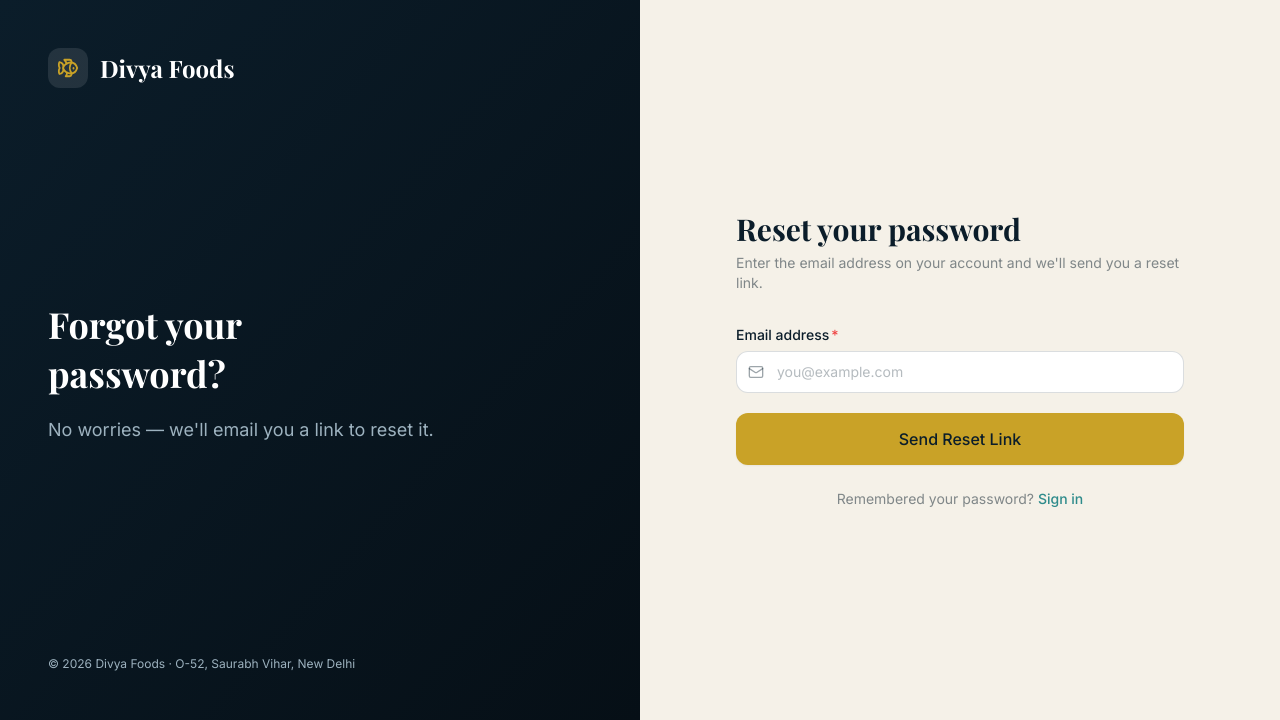
Scenario: ForgotPasswordPage › submits a valid email and shows the confirmation screen
Type "priya@test.com" into the field labelled "Email address*".
click(960, 372); type("priya@test.com")  # box [736, 351, 1184, 393]
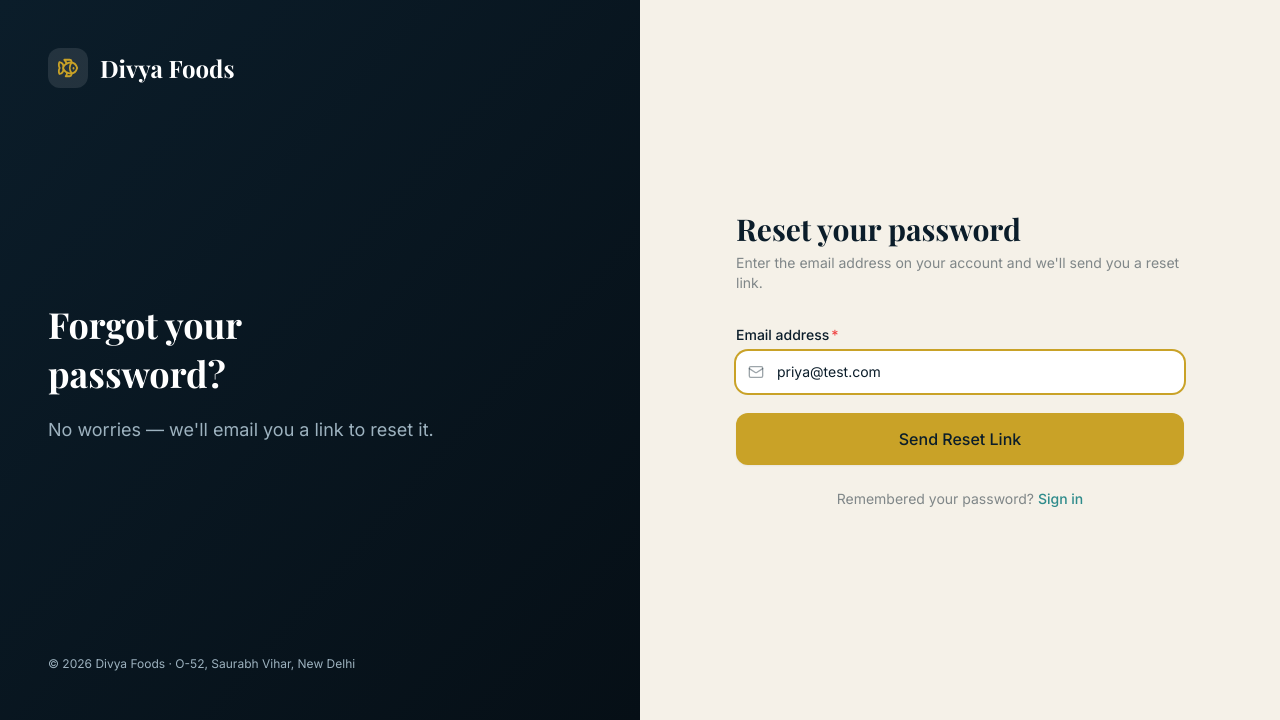
Click the button "Send Reset Link".
click(960, 439)  # box [736, 413, 1184, 465]
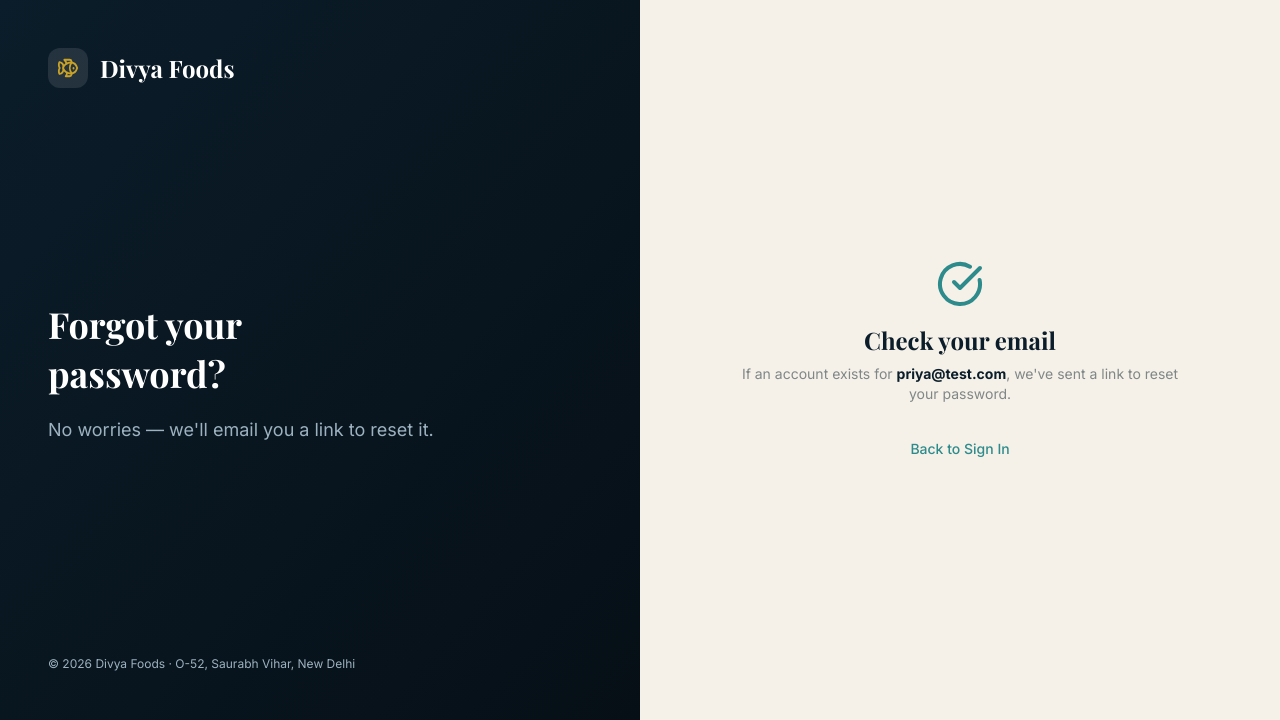
Check: the heading "Check your email" is shown, box [864, 324, 1056, 356]
Check: the text "priya@test.com" is shown, box [897, 365, 1006, 382]
